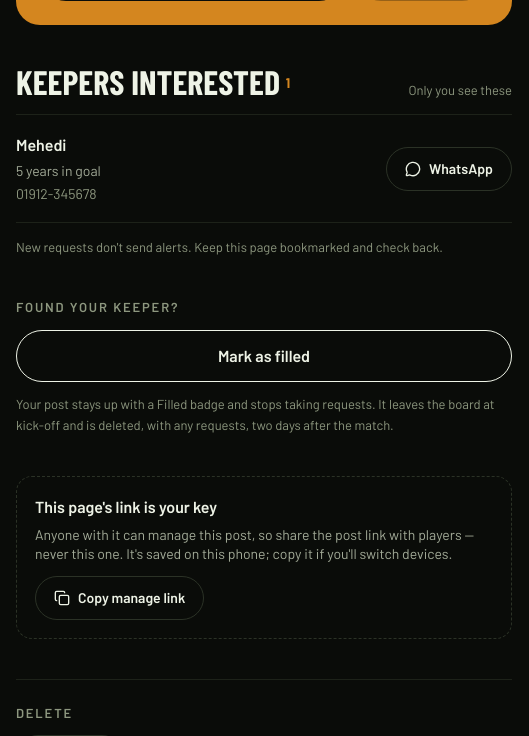
Scenario: ManagePage › marks the post filled with the edit token
The width and height of the screenshot is (529, 736).
(page scrolled)
Click the button "Mark as filled" at (264, 356), box [16,330,512,382]
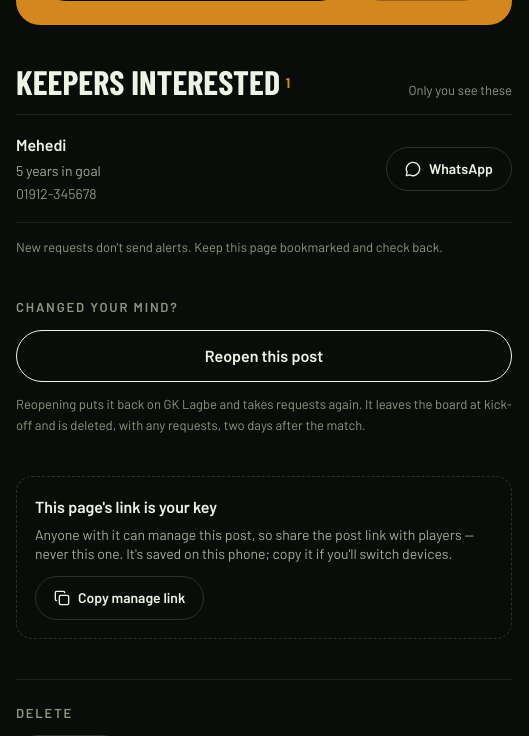
Now the button "Reopen this post" is shown, box [16,330,512,382]
